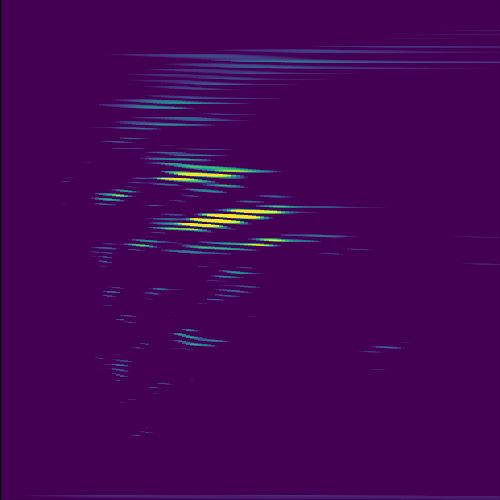semblance: (150, 207, 292, 231), (135, 163, 276, 187), (209, 235, 319, 246)
